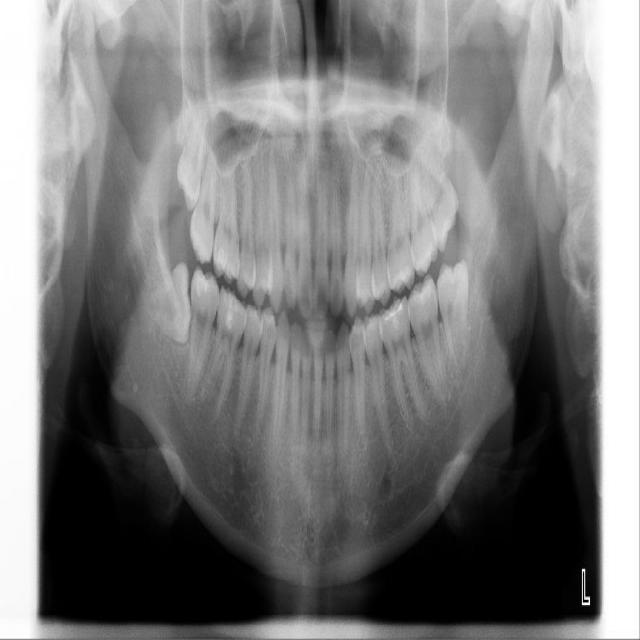Filling: (218, 290, 248, 335), (378, 300, 409, 337), (189, 269, 217, 298), (213, 245, 236, 271)
impacted tooth: (134, 264, 192, 343), (417, 140, 458, 250), (437, 263, 471, 382), (179, 99, 206, 204)
